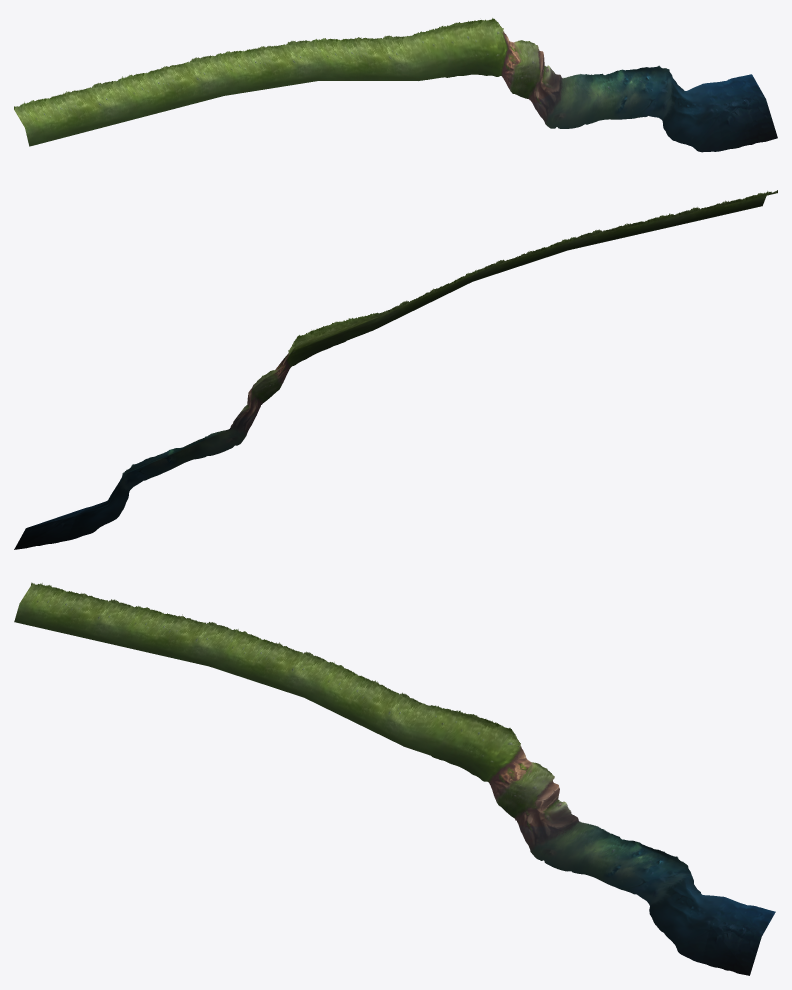
File: Dark Forest Grass Landscape.FBX
3 renders of one model, top to bottom at view 1: azimuth 30°, elevation 25°; view 2: azimuth 210°, elevation 25°; view 3: azimuth 330°, elevation 25°, orthographic.
Parts seen in each view (by area): view 1: Grass Landscape; view 2: Grass Landscape; view 3: Grass Landscape.
Boxes of the visible parts, left/top/right/bottom form: Grass Landscape: left=14, top=18, right=777, bottom=152; Grass Landscape: left=14, top=190, right=777, bottom=549; Grass Landscape: left=14, top=582, right=775, bottom=975.
Bounding box in the file's own units: 7107 × 467 × 1904.
